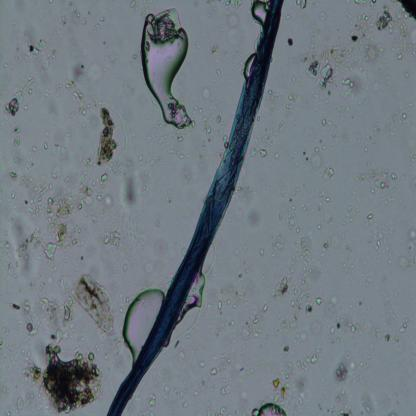Air bubble: (140, 10, 195, 132), (121, 281, 162, 345), (257, 401, 286, 415), (250, 0, 269, 21)
Background material: (34, 168, 106, 266), (44, 340, 104, 414), (276, 235, 322, 331), (68, 273, 122, 345), (298, 29, 347, 89), (346, 10, 384, 66), (354, 160, 396, 200), (37, 292, 79, 329), (115, 156, 142, 211), (249, 121, 287, 160), (3, 76, 36, 120), (270, 346, 294, 404), (14, 36, 55, 68), (9, 298, 40, 338), (306, 140, 334, 180), (19, 176, 46, 216), (64, 78, 92, 116), (13, 226, 43, 261), (342, 63, 368, 102), (374, 223, 396, 264), (330, 311, 361, 339), (328, 387, 357, 416), (245, 303, 269, 338), (22, 350, 44, 386), (159, 382, 189, 408), (98, 131, 119, 168), (195, 108, 222, 136), (285, 183, 300, 232), (290, 349, 318, 375), (0, 240, 18, 278), (390, 38, 416, 60), (358, 390, 380, 416), (76, 154, 93, 185), (376, 5, 394, 34), (266, 88, 284, 113), (219, 0, 244, 18), (270, 232, 286, 260), (225, 290, 246, 309), (284, 89, 300, 112), (398, 0, 416, 20), (49, 326, 69, 344), (29, 269, 45, 291), (341, 205, 359, 224), (54, 145, 71, 164), (370, 326, 393, 340), (322, 235, 338, 255), (334, 362, 348, 384), (394, 106, 410, 125), (215, 347, 233, 363), (344, 350, 356, 373), (104, 231, 121, 247), (399, 256, 416, 271), (406, 229, 416, 251), (398, 317, 410, 335), (146, 392, 158, 408), (210, 363, 226, 375), (240, 364, 254, 377), (194, 378, 204, 396), (398, 22, 409, 38), (317, 191, 331, 203), (328, 295, 340, 309), (360, 355, 372, 368), (220, 384, 233, 396), (388, 308, 396, 327), (364, 272, 374, 287), (322, 113, 332, 128), (16, 396, 25, 412), (213, 324, 223, 338), (294, 0, 307, 10), (356, 295, 366, 307), (12, 134, 20, 149), (239, 391, 249, 402), (366, 212, 374, 225), (0, 386, 10, 395), (10, 171, 18, 181), (58, 278, 66, 288), (409, 152, 416, 163), (353, 0, 368, 5), (217, 298, 223, 310), (300, 203, 308, 212), (259, 247, 266, 257), (287, 36, 293, 47), (290, 74, 296, 85), (198, 360, 206, 368), (344, 244, 352, 252), (174, 339, 181, 348), (11, 190, 17, 200), (180, 351, 186, 361), (317, 222, 324, 230), (363, 146, 370, 153), (32, 145, 38, 153), (230, 319, 235, 328), (43, 141, 48, 150), (13, 156, 19, 163), (370, 0, 377, 6), (208, 302, 212, 310), (404, 72, 408, 78)
Cotton: (97, 0, 275, 406)
